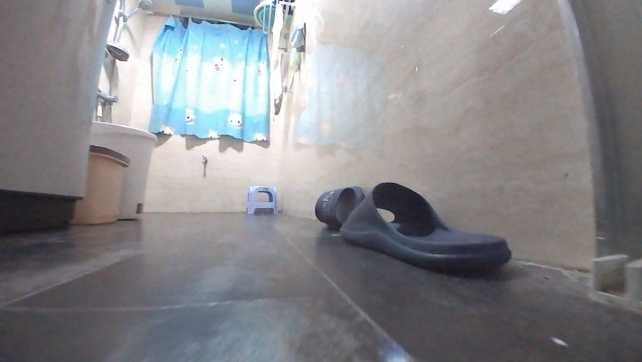plastic_stool: (245, 182, 283, 217)
slipper: (311, 178, 517, 275)
toilet: (89, 115, 160, 226)
trash_can: (74, 140, 132, 224)
